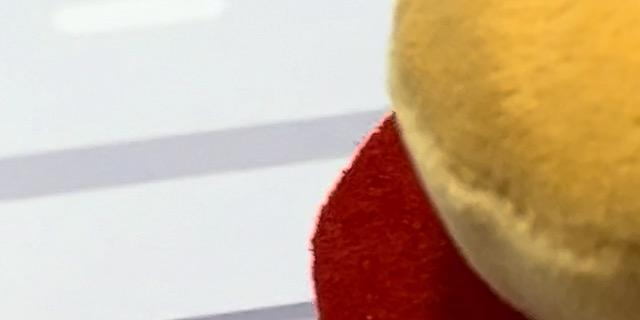burger: (283, 0, 640, 320)
